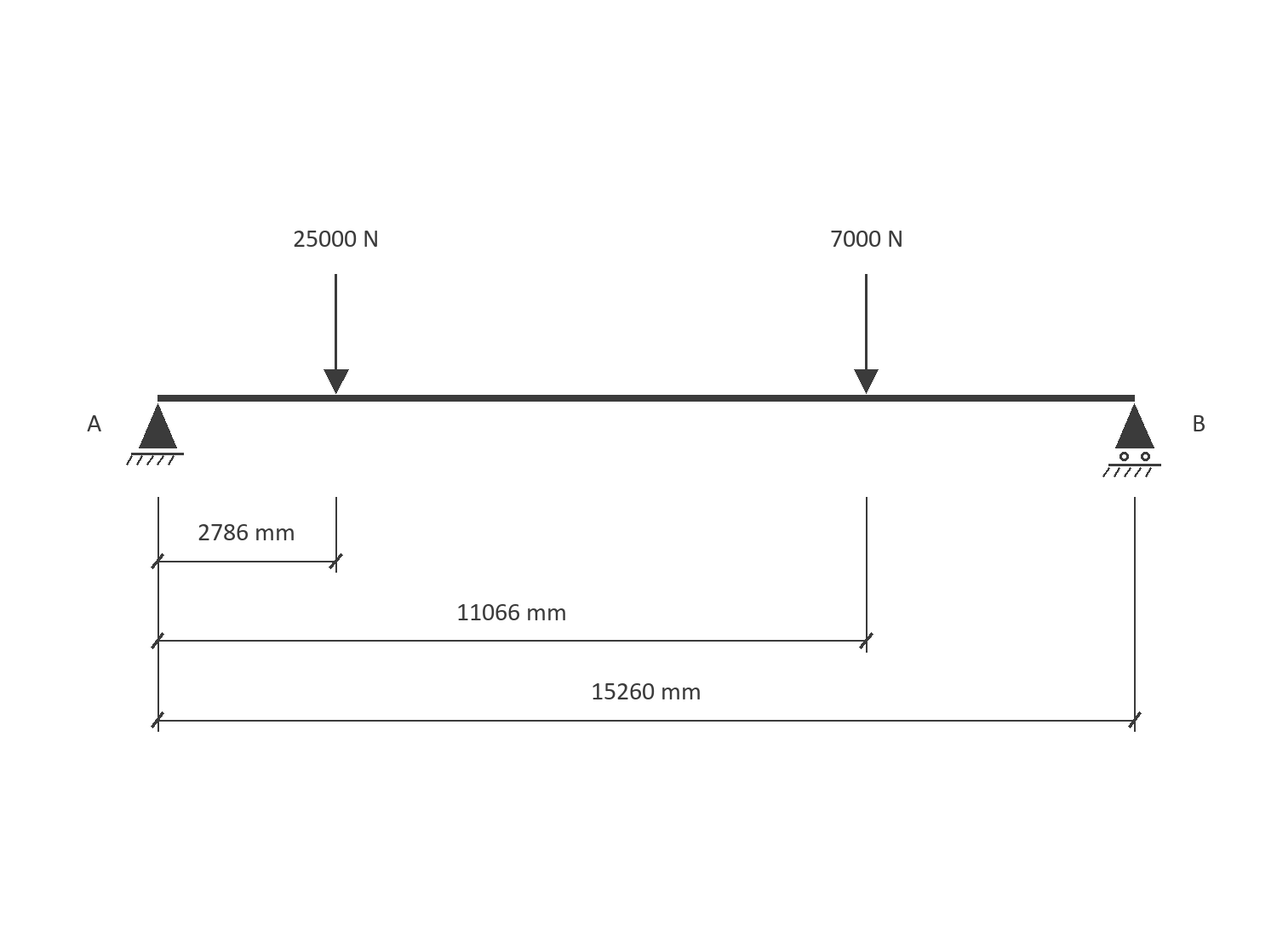pin_support: (126, 403, 184, 465)
point_load: (324, 274, 349, 394), (854, 274, 879, 394)
roller_support: (1102, 403, 1161, 477)
